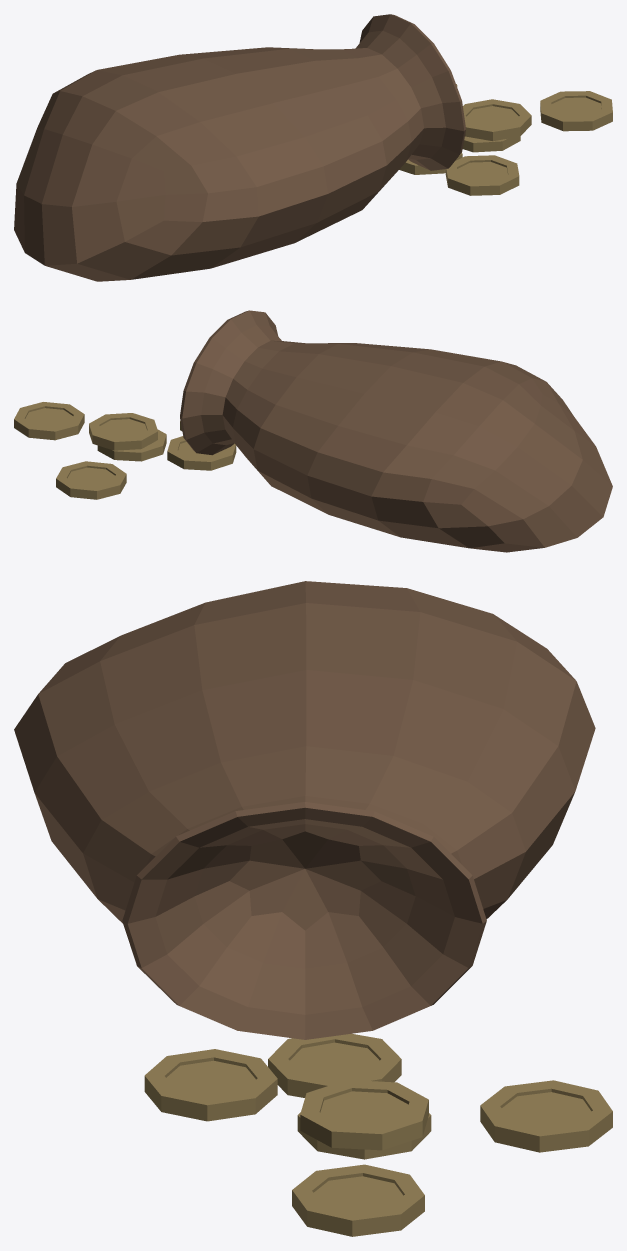
File: Bag_Coins.glb
3 views of the same model, one above another, from view 1: azimuth 30°, elevation 25°; view 2: azimuth 150°, elevation 25°; view 3: azimuth 270°, elevation 25° (orthographic). The views are drawn at different scales.
Parts seen in each view (by area): view 1: Bag_Coins; view 2: Bag_Coins; view 3: Bag_Coins.
Boxes of the visible parts, bbox=[...] form: Bag_Coins: bbox=[14, 14, 612, 281]; Bag_Coins: bbox=[14, 310, 612, 552]; Bag_Coins: bbox=[14, 581, 612, 1236].
Size of the model in its own units: 0.442 by 0.1146 by 0.2222.
